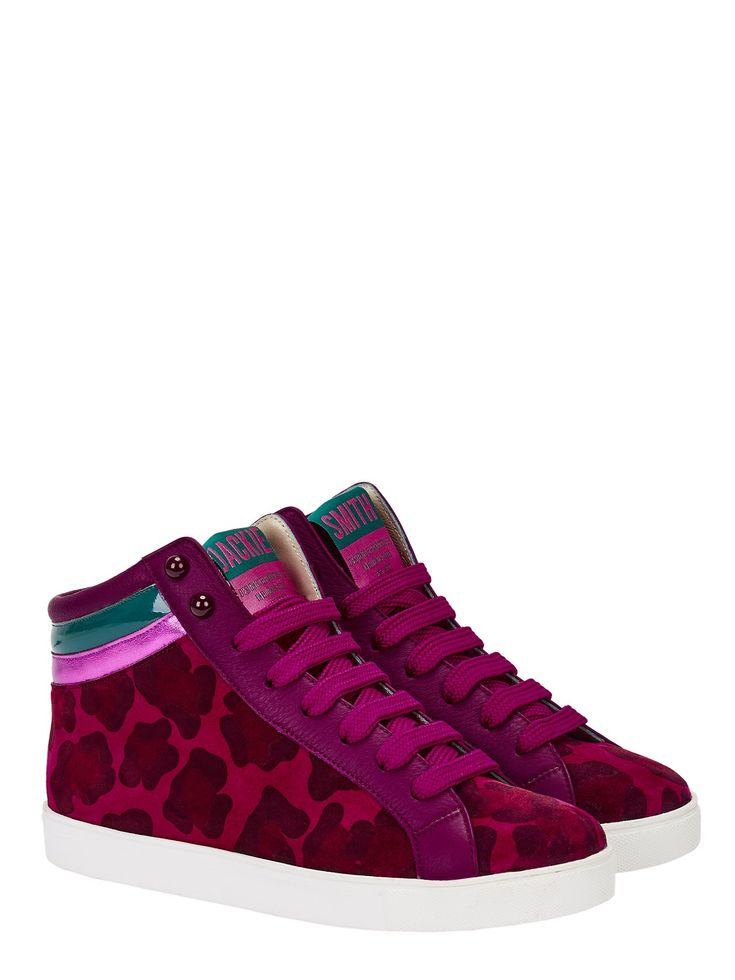gamuza: (46, 636, 693, 880)
